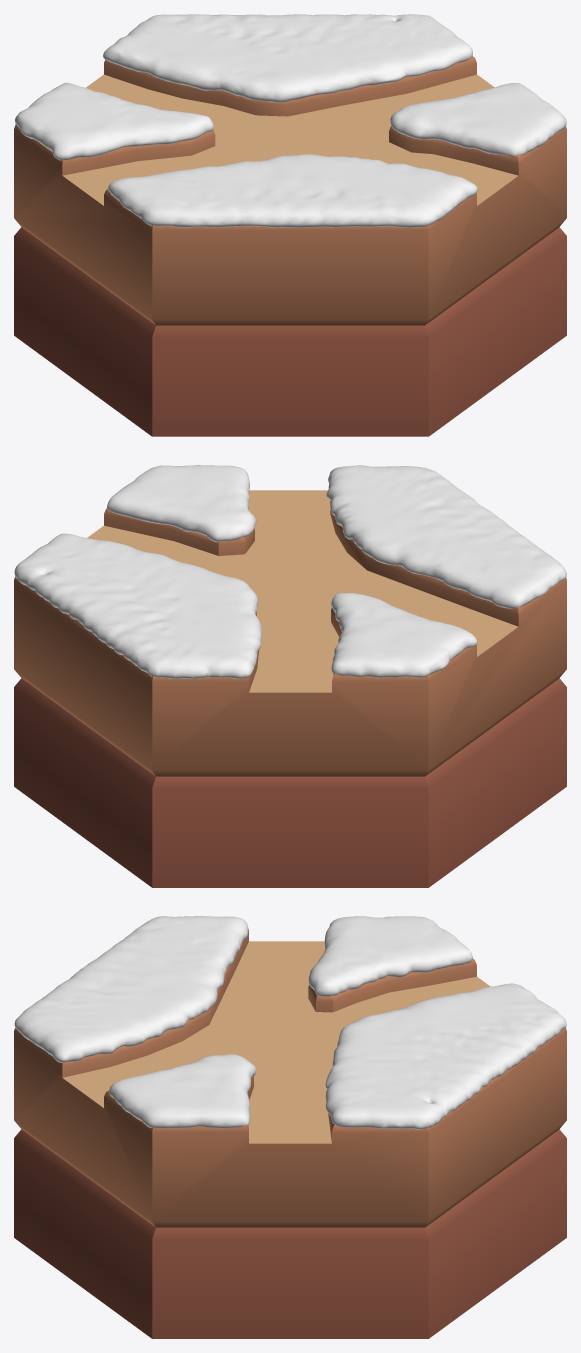
Rendered from hex_rock_roadJ_detail.fbx.
The picture shows the model from 3 angles, top to bottom: view 1: azimuth 30°, elevation 25°; view 2: azimuth 150°, elevation 25°; view 3: azimuth 270°, elevation 25°; orthographic projection.
Visible parts, largest first — view 1: hex_rock_roadJ_detail.001, SnowBall.001, hex_rock_roadJ_detail.002, hex_rock_roadJ_detail; view 2: hex_rock_roadJ_detail.002, SnowBall.001, hex_rock_roadJ_detail.001, hex_rock_roadJ_detail; view 3: hex_rock_roadJ_detail.002, SnowBall.001, hex_rock_roadJ_detail.001, hex_rock_roadJ_detail.
Boxes of the visible parts, bbox=[...] form: hex_rock_roadJ_detail.001: bbox=[14, 56, 566, 325]; SnowBall.001: bbox=[15, 14, 566, 227]; hex_rock_roadJ_detail.002: bbox=[14, 227, 566, 436]; hex_rock_roadJ_detail: bbox=[63, 74, 517, 205]; hex_rock_roadJ_detail.002: bbox=[14, 678, 566, 887]; SnowBall.001: bbox=[14, 465, 566, 678]; hex_rock_roadJ_detail.001: bbox=[14, 500, 566, 776]; hex_rock_roadJ_detail: bbox=[87, 490, 518, 692]; hex_rock_roadJ_detail.002: bbox=[14, 1129, 566, 1338]; SnowBall.001: bbox=[14, 916, 566, 1129]; hex_rock_roadJ_detail.001: bbox=[14, 929, 566, 1227]; hex_rock_roadJ_detail: bbox=[63, 941, 490, 1143].
Size of the model in its own units: 203 by 104 by 231.
